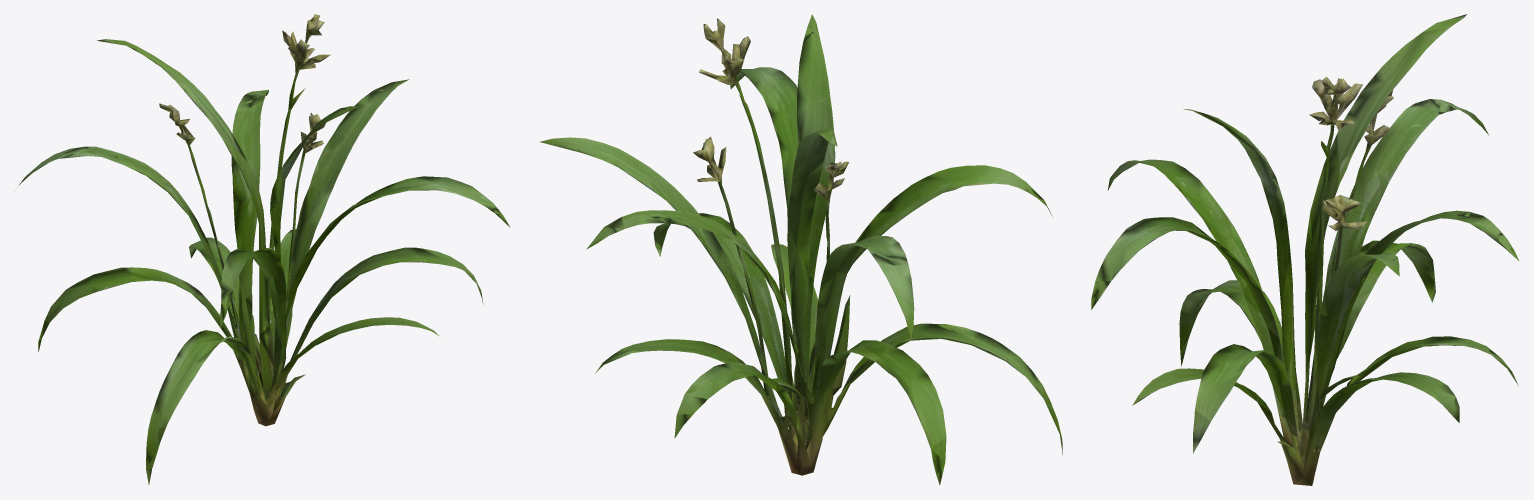
The model's file is forest_sedge.glb.
3 views of the same model, side by side, from view 1: azimuth 30°, elevation 25°; view 2: azimuth 150°, elevation 25°; view 3: azimuth 270°, elevation 25° (orthographic). The views are drawn at different scales.
Visible parts, largest first — view 1: lod0; view 2: lod0; view 3: lod0.
Part boxes in pixels (x1,y1,x2,y2): lod0: (19,14,510,484); lod0: (540,14,1062,485); lod0: (1091,14,1519,485).
Size of the model in its own units: 0.9883 by 1 by 0.8799.
Materials: 1 (1 with a texture image).
